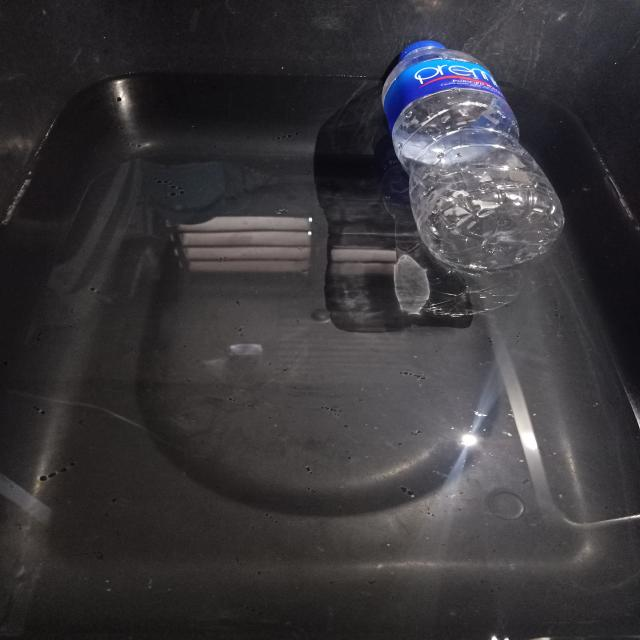Plastic Bottle: (391, 37, 570, 283)
